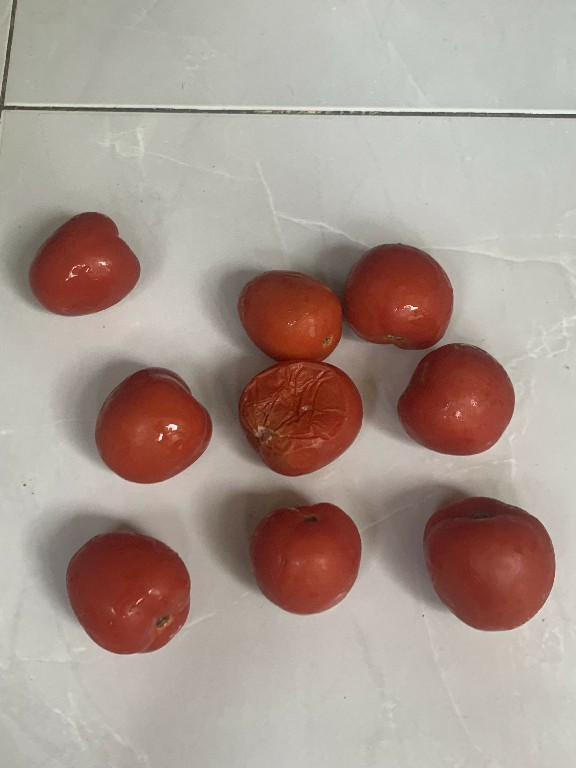NG: (229, 356, 370, 481)
OK: (415, 484, 563, 648), (54, 522, 202, 664), (387, 335, 527, 466), (88, 358, 217, 494), (17, 200, 152, 324), (339, 233, 470, 355), (240, 500, 367, 621), (227, 256, 346, 369)
